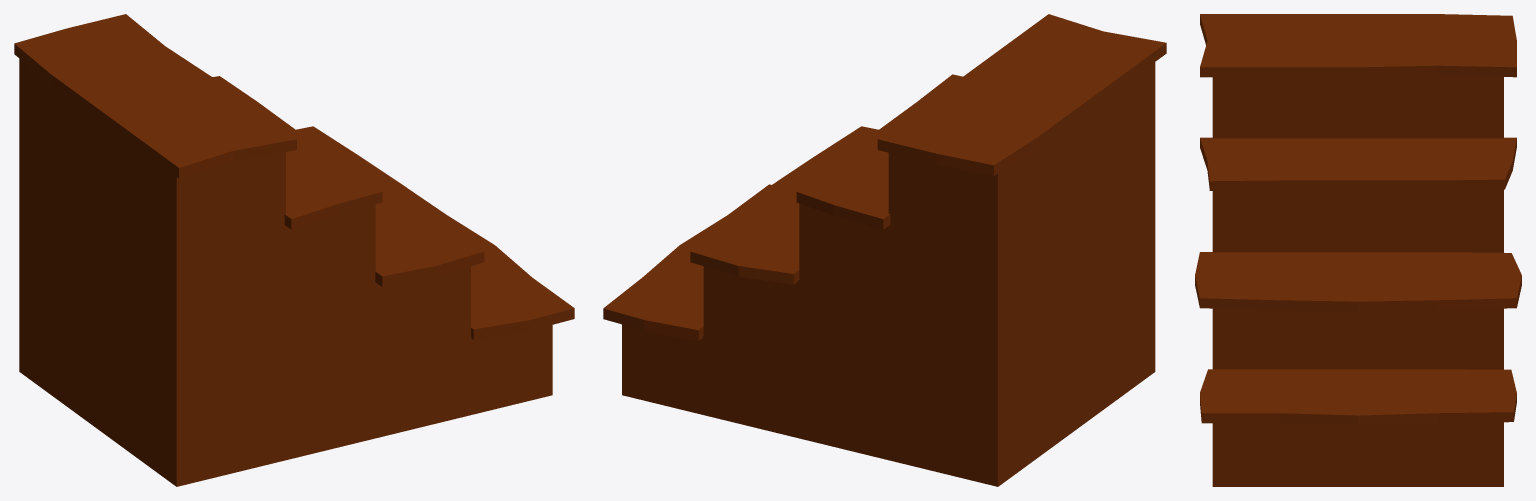
The model's file is escada.fbx.
3 views of the same model, side by side, from view 1: azimuth 30°, elevation 25°; view 2: azimuth 150°, elevation 25°; view 3: azimuth 270°, elevation 25° (orthographic). The views are drawn at different scales.
Visible parts, largest first — view 1: Cube, Plane.002, Plane.001, Plane.003, Plane; view 2: Cube, Plane.002, Plane.001, Plane.003, Plane; view 3: Cube, Plane.002, Plane.001, Plane.003, Plane.
Part boxes in pixels (box(x1,y1,x2,y2)): Cube: box(19, 59, 552, 486); Plane.002: box(14, 14, 296, 178); Plane.001: box(296, 126, 484, 286); Plane.003: box(409, 189, 574, 339); Plane: box(212, 76, 382, 229); Cube: box(622, 62, 1155, 486); Plane.002: box(877, 14, 1166, 175); Plane.001: box(690, 126, 878, 284); Plane.003: box(603, 184, 771, 340); Plane: box(796, 74, 962, 229); Cube: box(1212, 75, 1503, 486); Plane.002: box(1200, 14, 1516, 77); Plane.001: box(1195, 252, 1521, 311); Plane.003: box(1200, 369, 1516, 425); Plane: box(1200, 137, 1516, 190).
Bounding box in the file's own units: 734 × 568 × 559.
